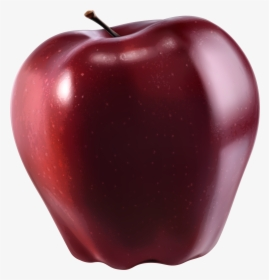apple: (12, 17, 261, 269)
